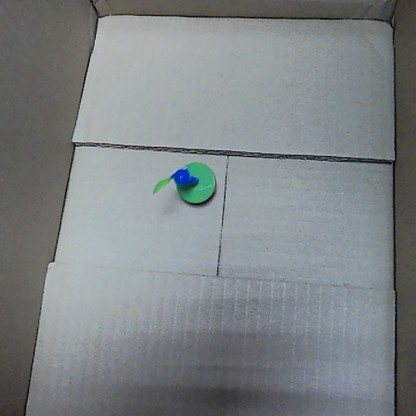leafairy: (152, 158, 218, 208)
